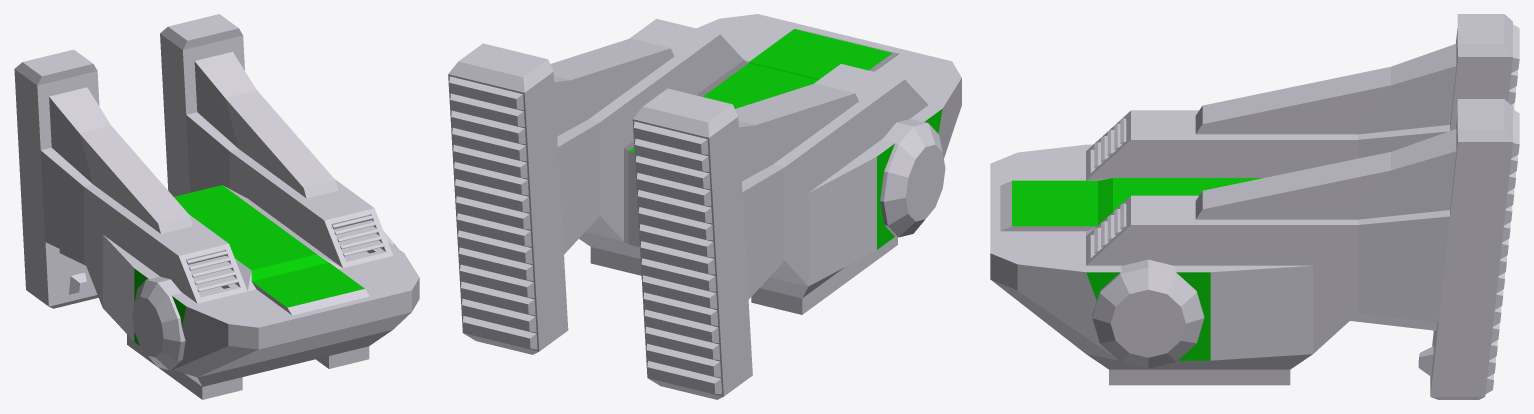
Rendered from Ram.fbx.
3 views of the same model, side by side, from view 1: azimuth 30°, elevation 25°; view 2: azimuth 150°, elevation 25°; view 3: azimuth 270°, elevation 25° (orthographic). The views are drawn at different scales.
Visible parts, largest first — view 1: Ram; view 2: Ram; view 3: Ram.
Boxes of the visible parts, x1,y1,x2,y2 form: Ram: (14, 14, 419, 399); Ram: (448, 14, 961, 399); Ram: (990, 14, 1519, 399).
Size of the model in its own units: 3.13 by 2.8 by 4.93.
